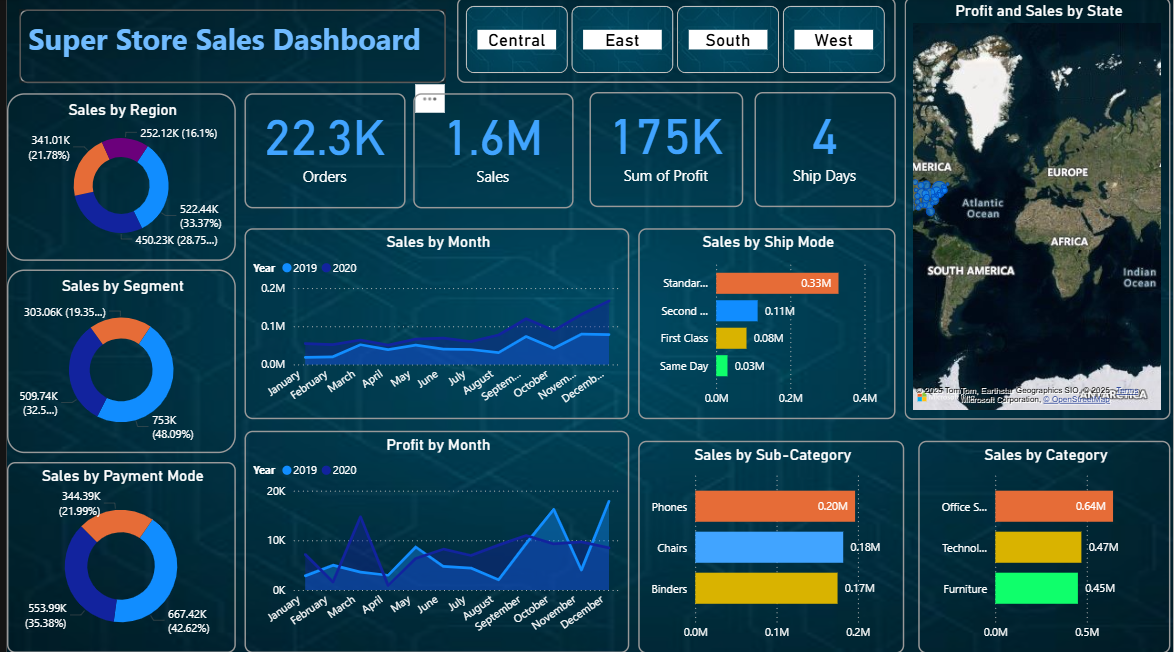

This screenshot's page, from the dashboard's own definition file:
{"tool":"powerbi","page":{"name":"Page 1","canvas":[1280,720],"ordinal":0},"visuals":[{"type":"clusteredBarChart","title":" Sales by Category","fields":{"Category":["SuperStore_Sales.Category"],"Y":["Sum(SuperStore_Sales.Sales)"]},"box":[1000.3,487.1,277.2,233.3],"z":0},{"type":"clusteredBarChart","title":"Sales by Sub-Category","fields":{"Category":["SuperStore_Sales.Sub-Category"],"Y":["Sum(SuperStore_Sales.Sales)"]},"box":[693,487.1,292.3,233.3],"z":1000},{"type":"clusteredBarChart","title":" Sales by Ship Mode","fields":{"Category":["SuperStore_Sales.Ship Mode"],"Y":["Sum(SuperStore_Sales.Sales)"]},"box":[693,253.9,282.7,209.9],"z":2000},{"type":"areaChart","title":"Sales by  Month ","fields":{"Y":["Sum(SuperStore_Sales.Sales)"],"Series":["SuperStore_Sales.Order Date.Variation.Date Hierarchy.Year"],"Category":["SuperStore_Sales.Order Date.Variation.Date Hierarchy.Month","SuperStore_Sales.Order Date.Variation.Date Hierarchy.Day"]},"box":[260.7,253.9,422.6,209.9],"z":3000},{"type":"areaChart","title":"Profit by Month","fields":{"Series":["SuperStore_Sales.Order Date.Variation.Date Hierarchy.Year"],"Category":["SuperStore_Sales.Order Date.Variation.Date Hierarchy.Month","SuperStore_Sales.Order Date.Variation.Date Hierarchy.Day"],"Y":["Sum(SuperStore_Sales.Profit)"]},"box":[260.7,476.2,422.6,244.3],"z":4000},{"type":"map","title":"Profit and Sales by State","fields":{"Category":["SuperStore_Sales.State"],"Size":["Sum(SuperStore_Sales.Sales)"]},"box":[985.3,0,292.3,463.8],"z":5000},{"type":"donutChart","title":" Sales by Segment","fields":{"Category":["SuperStore_Sales.Segment"],"Y":["Sum(SuperStore_Sales.Sales)"]},"box":[0,299.1,251.1,201.7],"z":6000},{"type":"advancedSlicerVisual","fields":{"Values":["SuperStore_Sales.Region"]},"box":[494,0,481.6,94.7],"z":7000},{"type":"textbox","box":[13.7,13.7,467.9,81],"z":8000},{"type":"donutChart","title":" Sales by Payment Mode","fields":{"Y":["Sum(SuperStore_Sales.Sales)"],"Category":["SuperStore_Sales.Payment Mode"]},"box":[0,510.5,251.1,209.9],"z":9000},{"type":"card","fields":{"Values":["Sum(SuperStore_Sales.Sales)"]},"box":[446,105.7,175.6,126.2],"z":10000},{"type":"card","fields":{"Values":["Sum(SuperStore_Sales.Profit)"]},"box":[639.5,104.3,168.8,126.2],"z":11000},{"type":"card","fields":{"Values":["Avg(SuperStore_Sales.Avg_delivery)"]},"box":[820.6,104.3,155.1,126.2],"z":12000},{"type":"donutChart","title":"Sales by Region","fields":{"Y":["Sum(SuperStore_Sales.Sales)"],"Category":["SuperStore_Sales.Region"]},"box":[0,105.7,251.1,183.9],"z":13000},{"type":"card","fields":{"Values":["Sum(SuperStore_Sales.Quantity)"]},"box":[260.7,105.7,177,126.2],"z":14000}]}

Visuals, with their boxes in screenshot pixels (x1, y1, x2, y2), scaled from the page's 1280x720 canvas onto the 1174x652 screenshot:
" Sales by Category" clusteredBarChart: <bbox>917, 441, 1172, 651</bbox>
"Sales by Sub-Category" clusteredBarChart: <bbox>636, 441, 904, 651</bbox>
" Sales by Ship Mode" clusteredBarChart: <bbox>636, 230, 895, 420</bbox>
"Sales by  Month " areaChart: <bbox>239, 230, 627, 420</bbox>
"Profit by Month" areaChart: <bbox>239, 431, 627, 651</bbox>
"Profit and Sales by State" map: <bbox>904, 0, 1172, 420</bbox>
" Sales by Segment" donutChart: <bbox>0, 271, 230, 454</bbox>
advancedSlicerVisual - SuperStore_Sales.Region: <bbox>453, 0, 895, 86</bbox>
textbox: <bbox>13, 12, 442, 86</bbox>
" Sales by Payment Mode" donutChart: <bbox>0, 462, 230, 651</bbox>
card - Sum(SuperStore_Sales.Sales): <bbox>409, 96, 570, 210</bbox>
card - Sum(SuperStore_Sales.Profit): <bbox>587, 94, 741, 209</bbox>
card - Avg(SuperStore_Sales.Avg_delivery): <bbox>753, 94, 895, 209</bbox>
"Sales by Region" donutChart: <bbox>0, 96, 230, 262</bbox>
card - Sum(SuperStore_Sales.Quantity): <bbox>239, 96, 401, 210</bbox>
